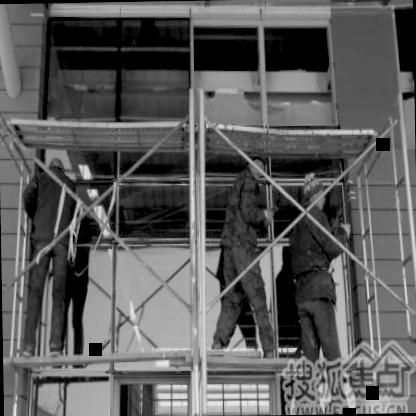helmet: (300, 170, 328, 212), (46, 153, 66, 181)
